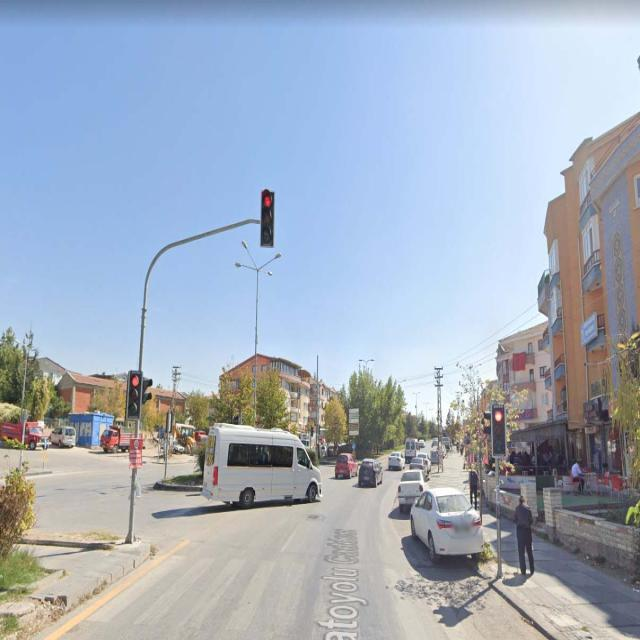kirmizi: (492, 405, 505, 455), (262, 188, 273, 244), (129, 370, 140, 418)
